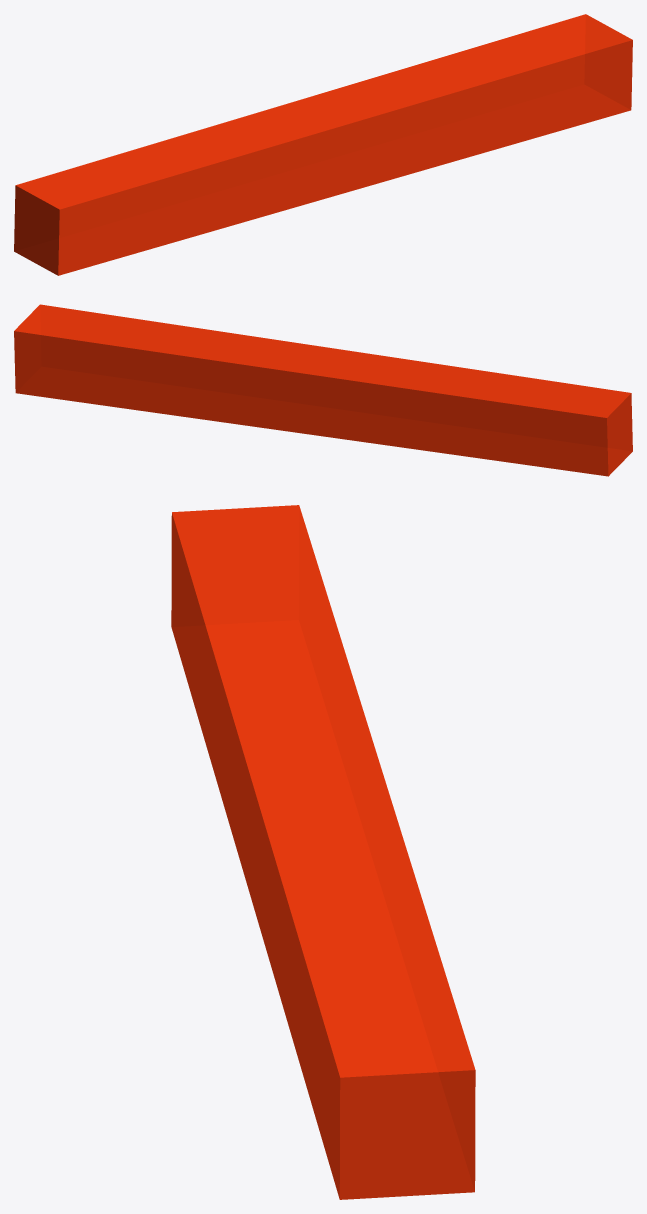
The model's file is Event_420094457_EErechit_52.fbx.
3 views of the same model, one above another, from view 1: azimuth 30°, elevation 25°; view 2: azimuth 150°, elevation 25°; view 3: azimuth 270°, elevation 25° (orthographic). The views are drawn at different scales.
Visible parts, largest first — view 1: Model; view 2: Model; view 3: Model.
Boxes of the visible parts, x1,y1,x2,y2 form: Model: [14, 14, 632, 275]; Model: [14, 304, 632, 476]; Model: [171, 505, 475, 1199].
Size of the model in its own units: 0.7278 by 0.0954 by 0.1717.
